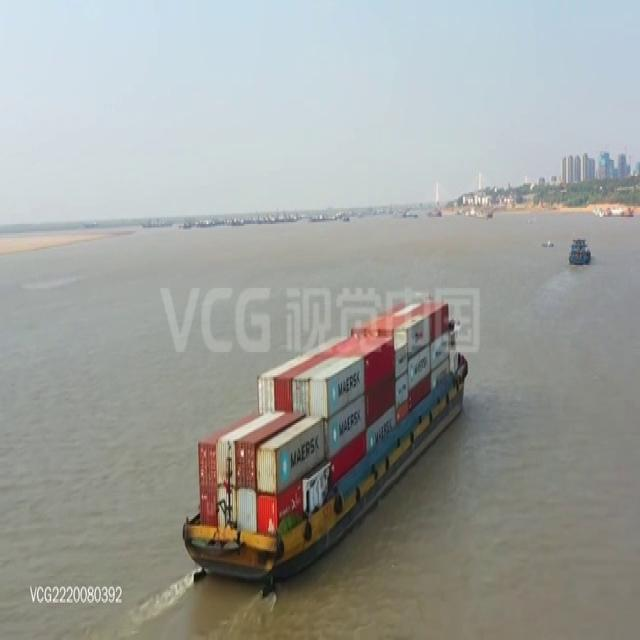cargoship: (180, 290, 470, 578)
fishing boat: (566, 236, 592, 268)
